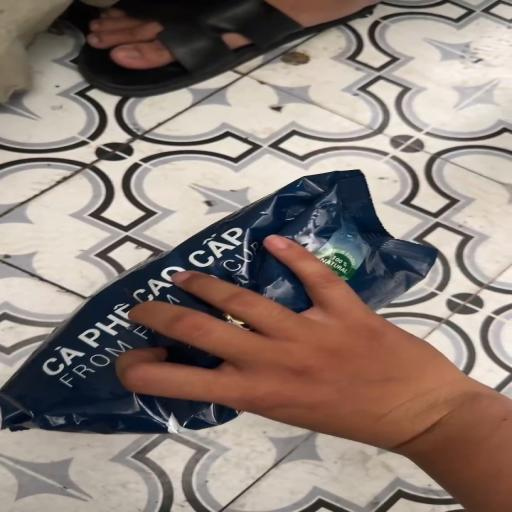cafe_hat: (0, 170, 436, 434)
